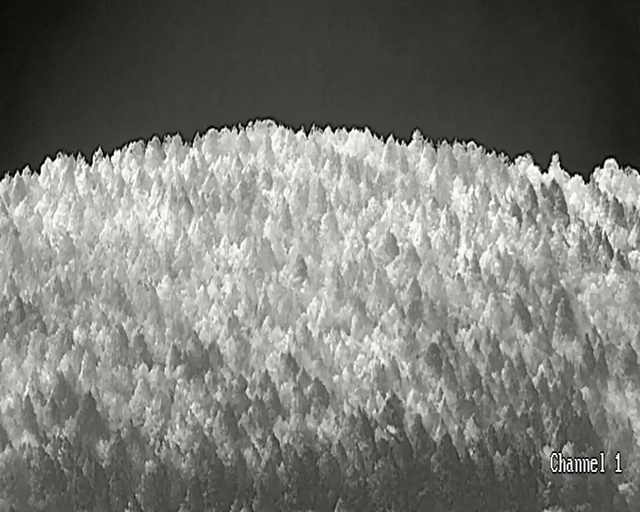uav: (435, 142, 440, 146)
